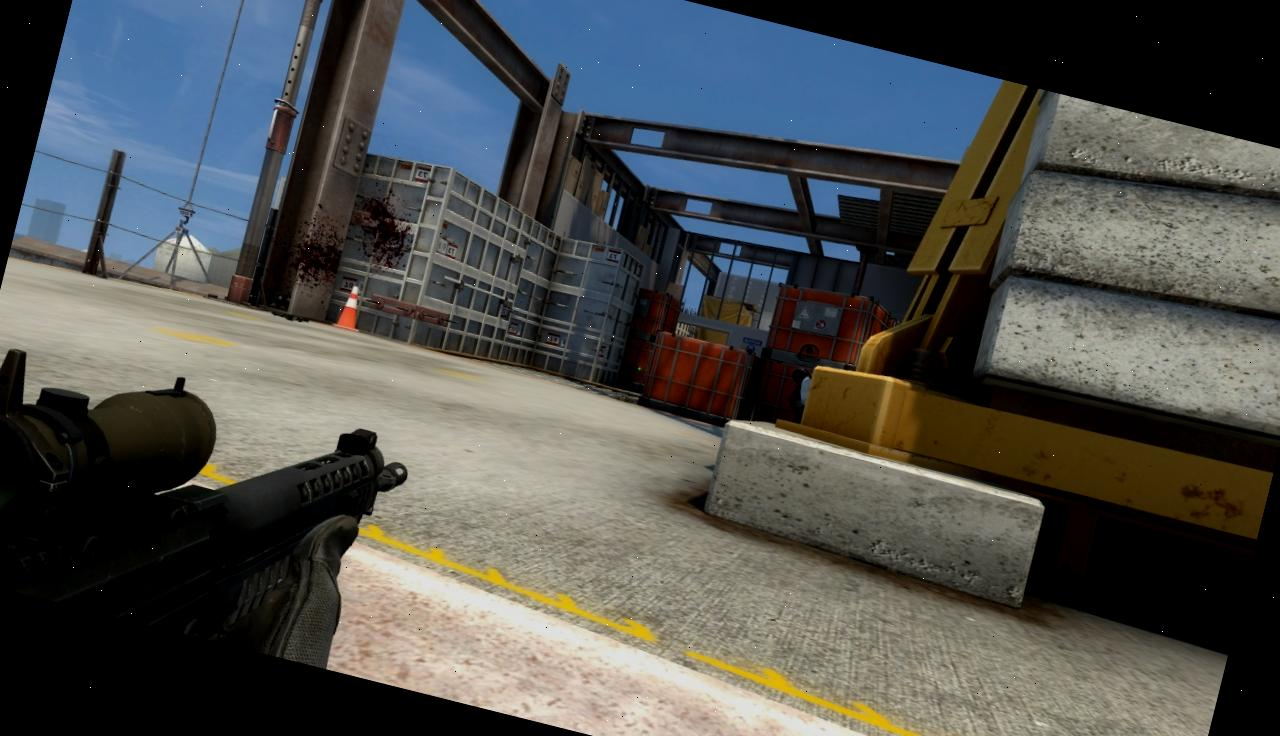rifle: (0, 325, 423, 678)
tt: (784, 370, 814, 423)
